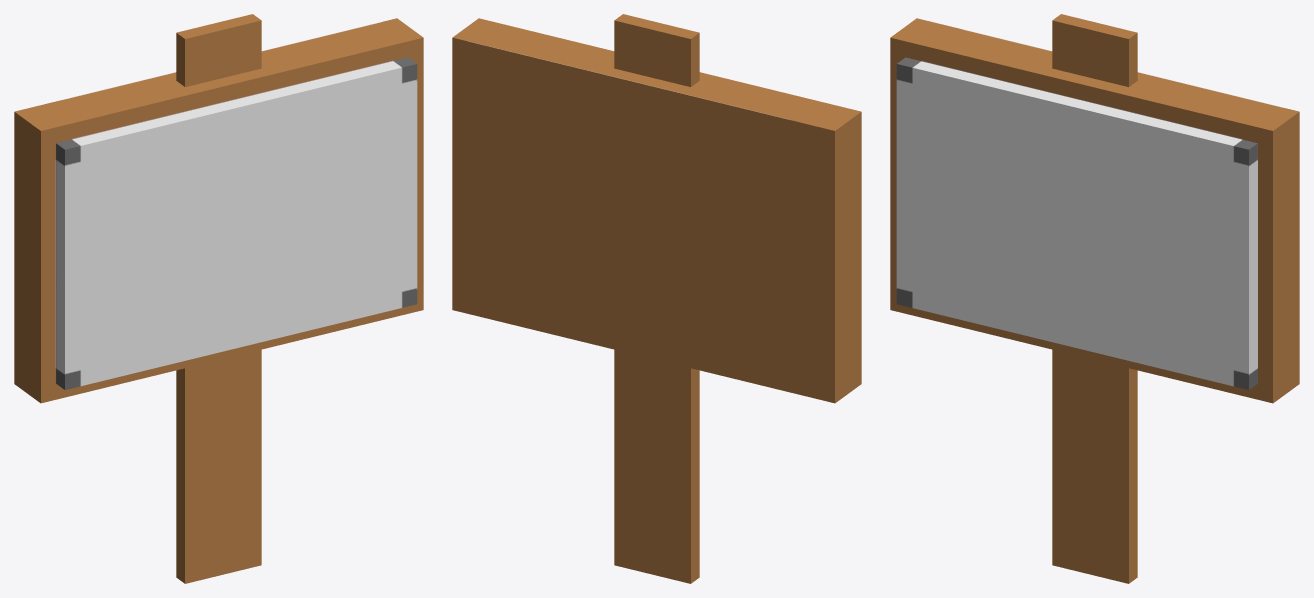
Rendered from kanban.glb.
The picture shows the model from 3 angles, left to right: view 1: azimuth 30°, elevation 25°; view 2: azimuth 150°, elevation 25°; view 3: azimuth 330°, elevation 25°; orthographic projection.
Parts seen in each view (by area): view 1: kanban; view 2: kanban; view 3: kanban.
Boxes of the visible parts, bbox=[...] form: kanban: bbox=[14, 14, 423, 583]; kanban: bbox=[452, 14, 861, 583]; kanban: bbox=[890, 14, 1299, 583].
Size of the model in its own units: 0.5 by 0.68 by 0.08.
Materials: 1 (1 with a texture image).
